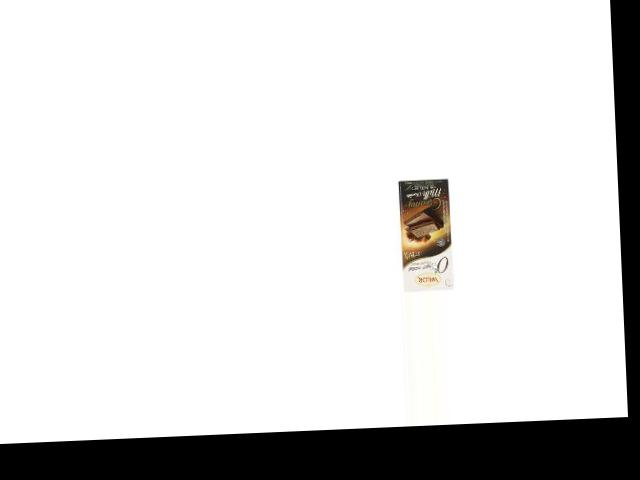chocolate: (396, 177, 456, 292)
